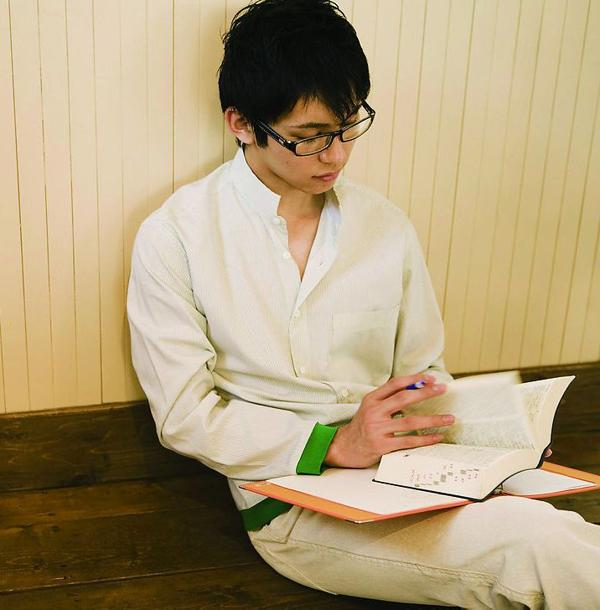person: (126, 3, 598, 608)
